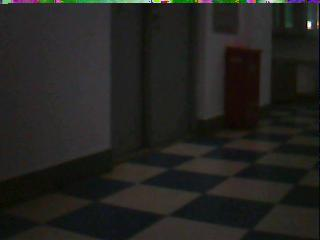oball: (236, 41, 243, 48)
